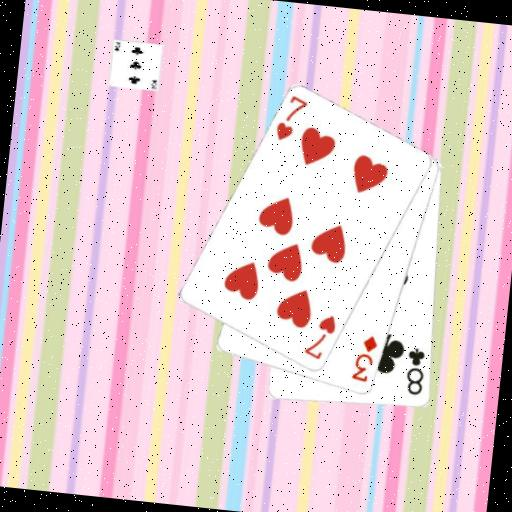3D: (348, 331, 380, 386)
7H: (272, 91, 311, 145), (300, 310, 339, 363)
8C: (401, 344, 429, 398)
